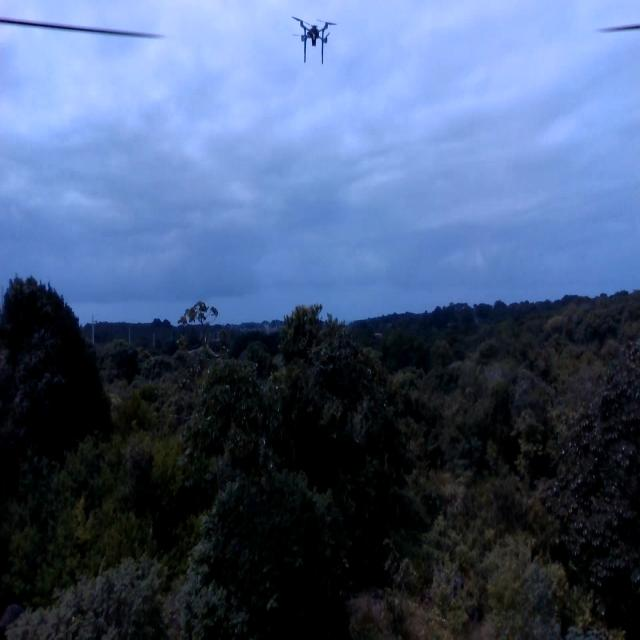-uav-: (286, 9, 342, 72)
